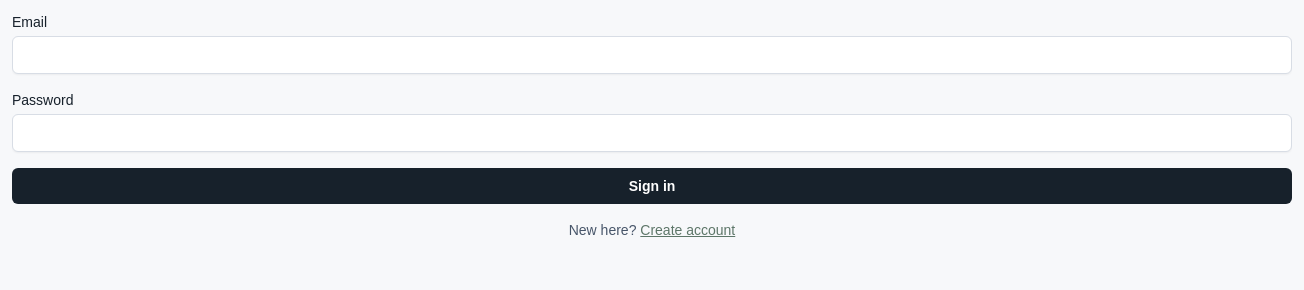
Test: LoginForm › shows error for invalid credentials
Type "test@test.com" into the field labelled "Email" at [652, 55], box [12,36,1292,74]
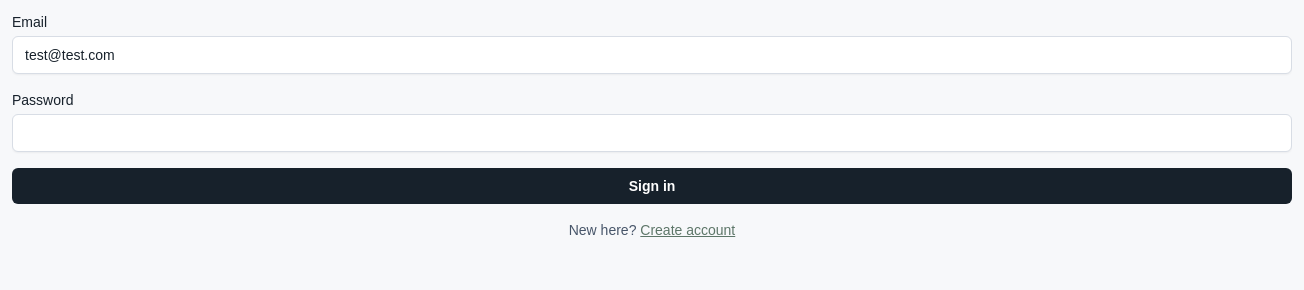
Type "wrong" into the password field labelled "Password" at [652, 133], box [12,114,1292,152]
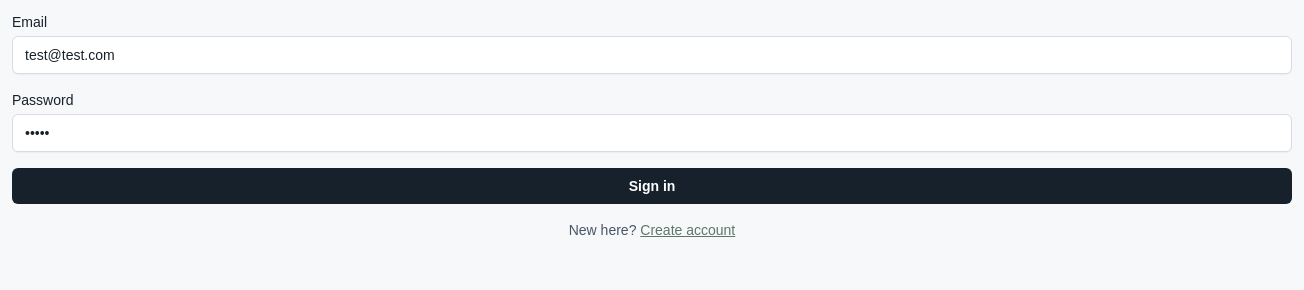
Submit the form from the button "Sign in", box [12,168,1292,204]
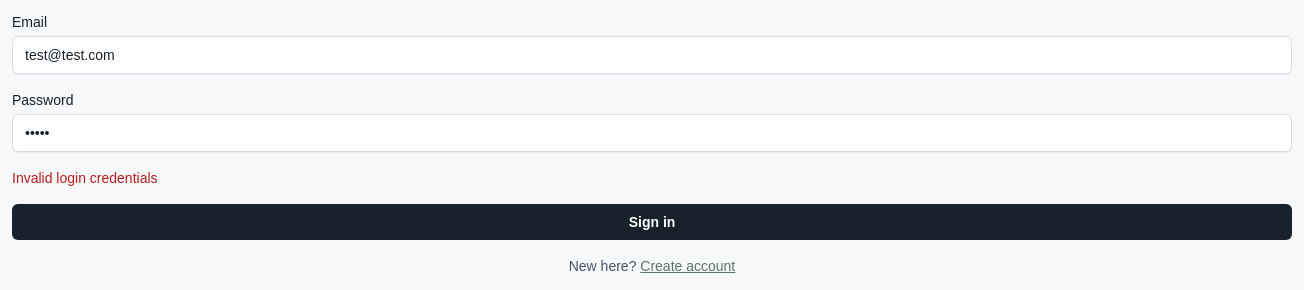
Check: the text "Invalid login credentials" is shown, box [12,170,158,186]
